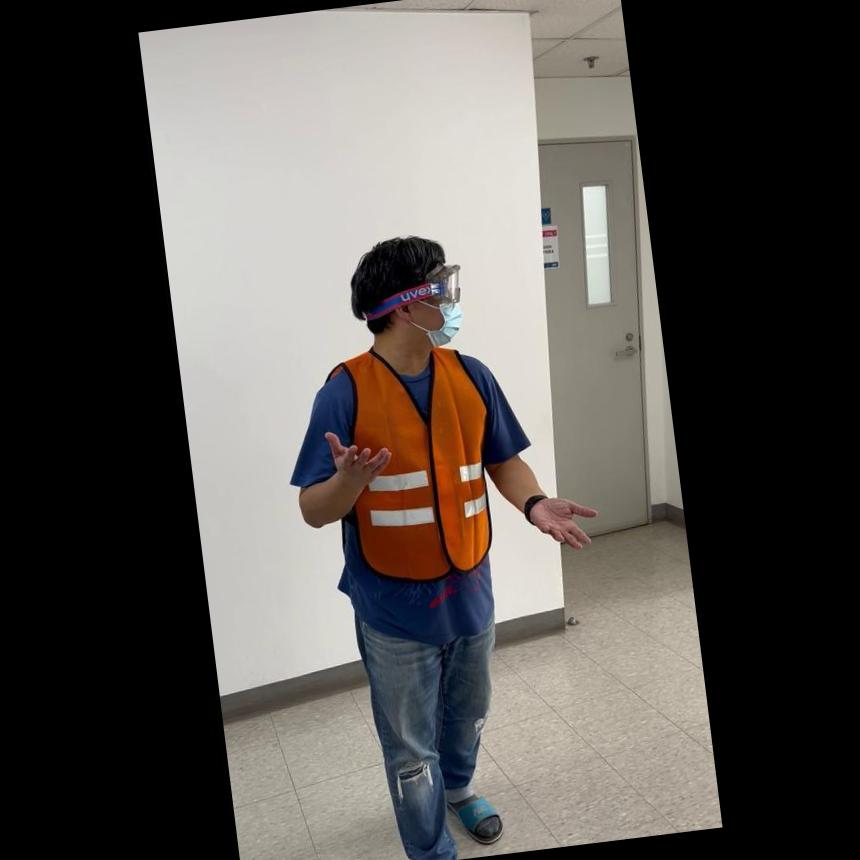No-gloves: (314, 414, 394, 504), (522, 488, 598, 557)
